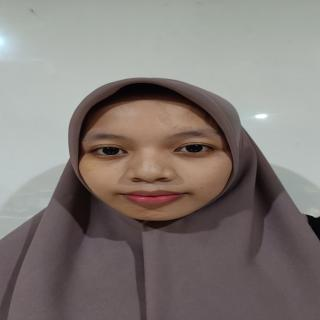Netral: (75, 96, 251, 225)
